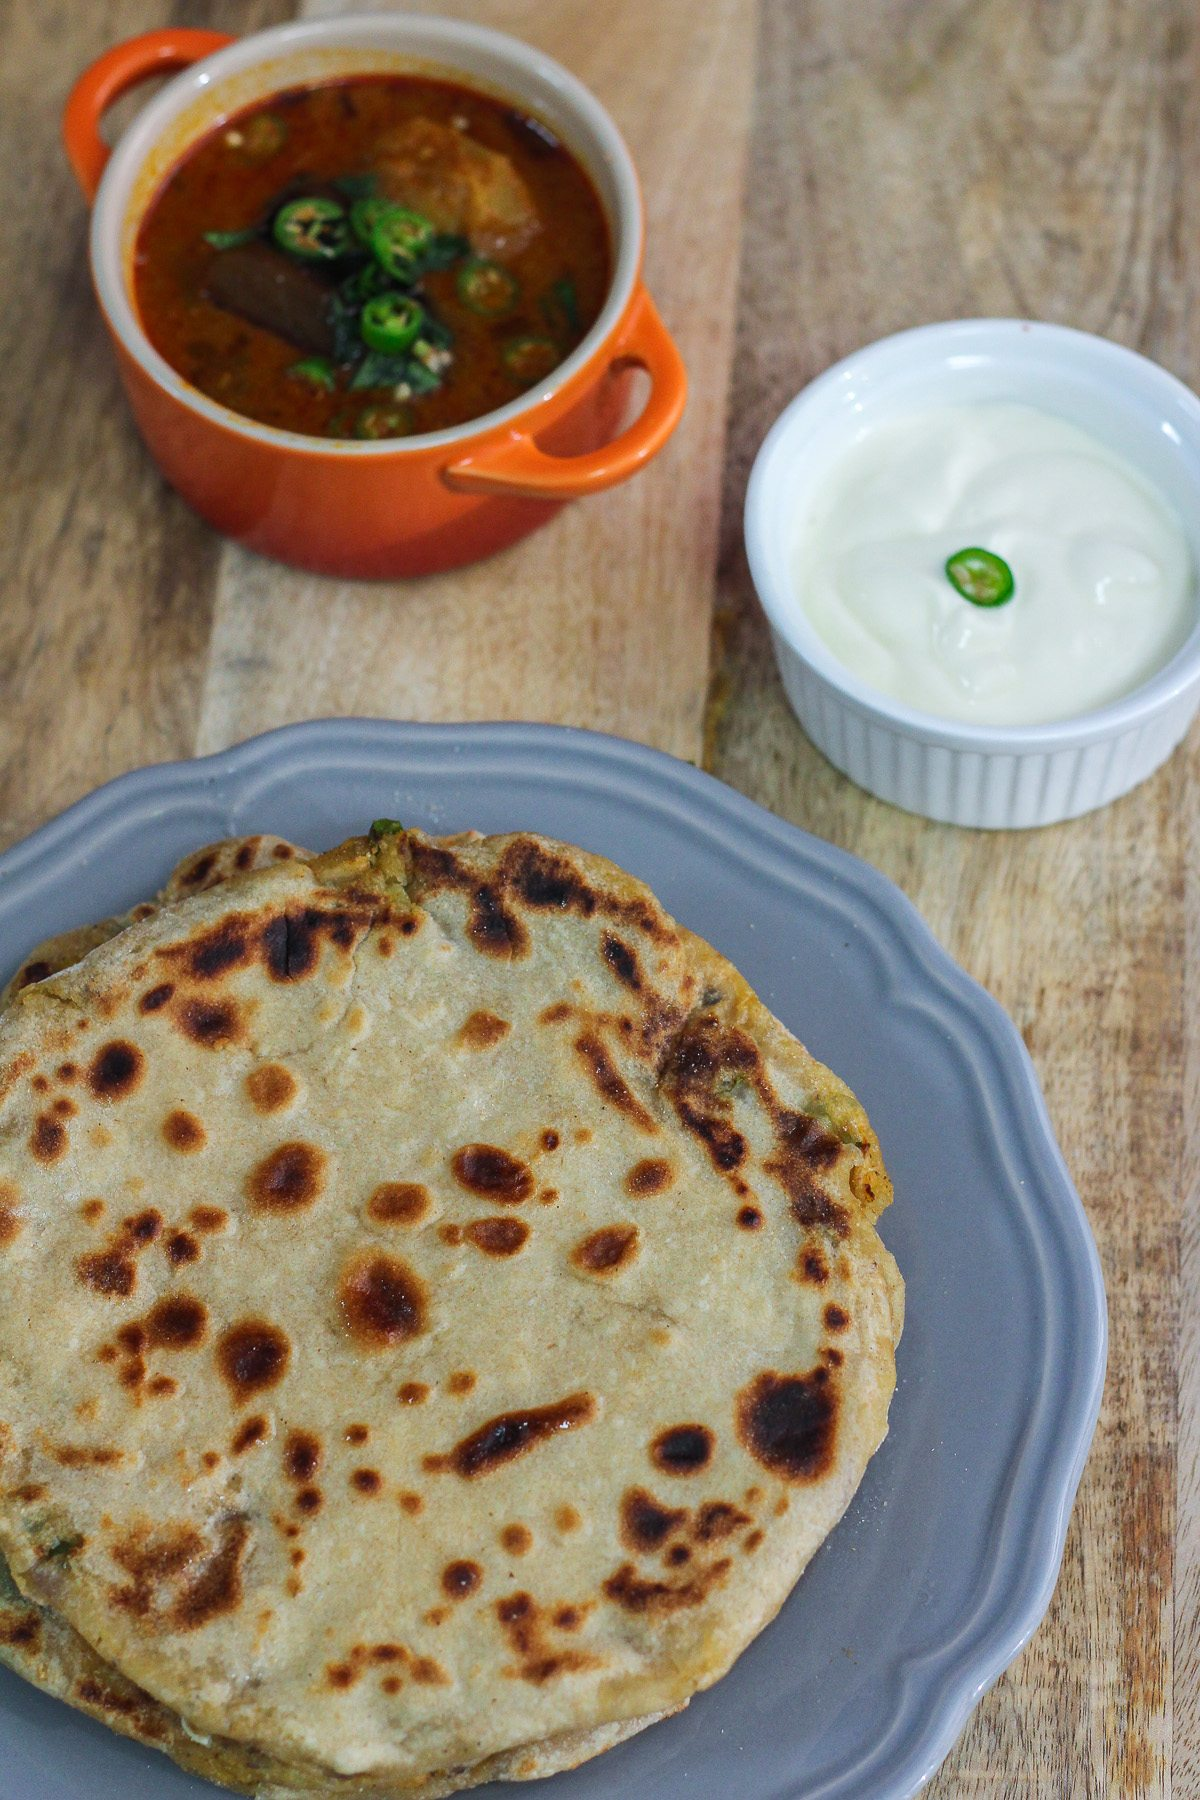aloo_paratha: (1, 825, 907, 1795)
